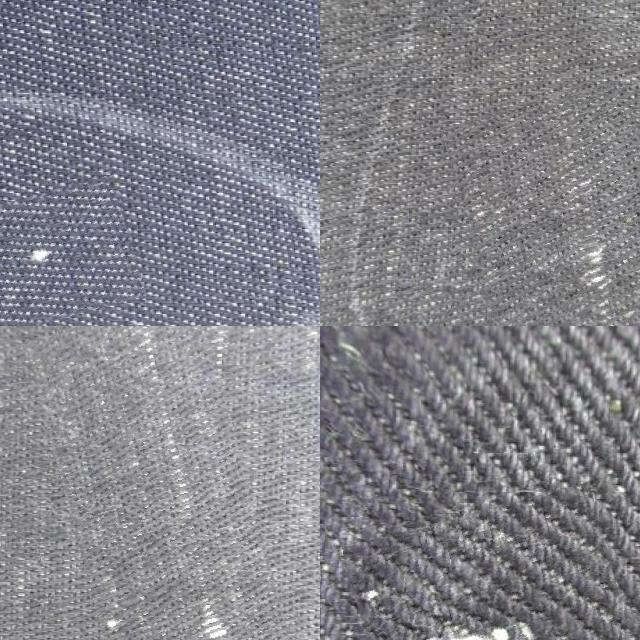stains: (62, 326, 318, 640), (459, 92, 640, 326), (354, 496, 638, 640), (0, 185, 139, 326)
